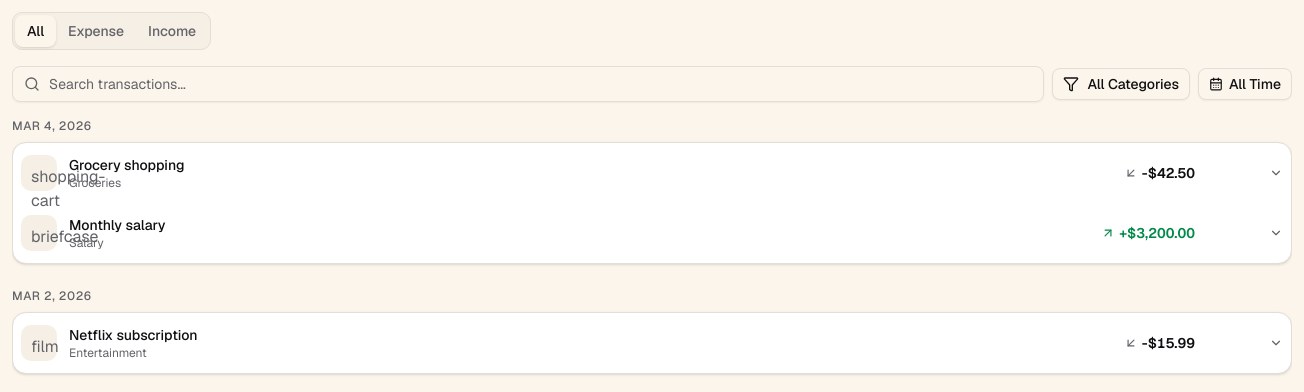
Test case: TransactionList › shows all transactions when all filter is selected
First filter to expense, then back to all
What coordinates should you click on to do the following:
click the button "expense"
I would click on:
 (96, 31)
Its box is left=56, top=15, right=136, bottom=47.
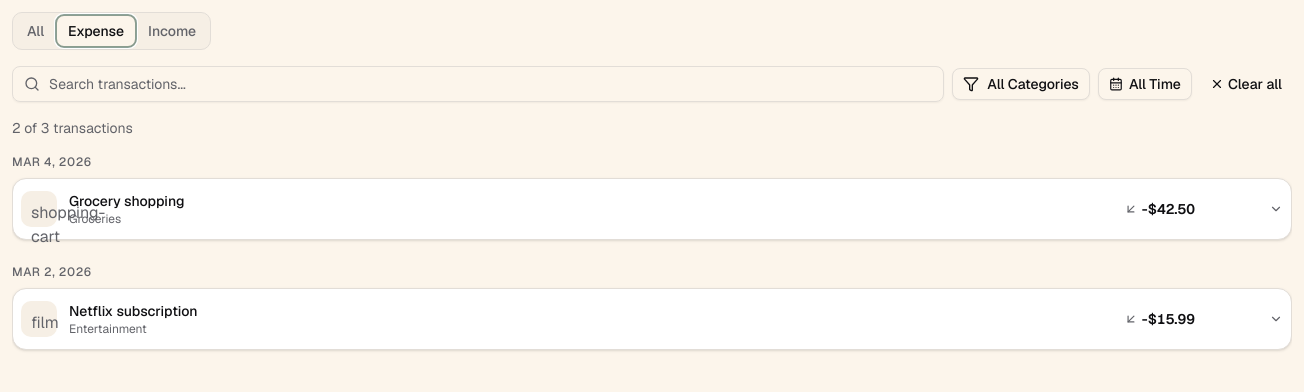
What coordinates should you click on to do the following:
click the button "all"
I would click on:
 (36, 31)
Its box is left=15, top=15, right=56, bottom=47.
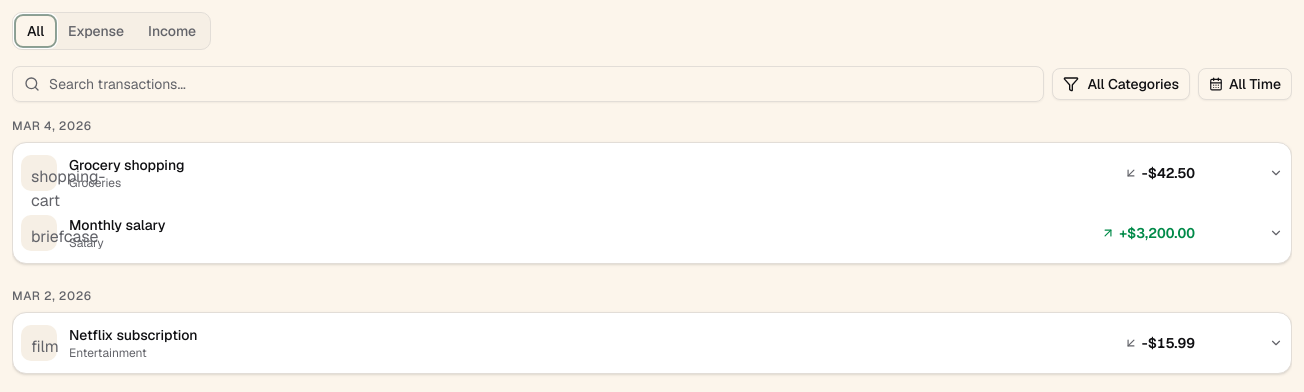
Expected: the text "Grocery shopping" is shown, left=69, top=156, right=185, bottom=174
Expected: the text "Monthly salary" is shown, left=69, top=216, right=166, bottom=234
